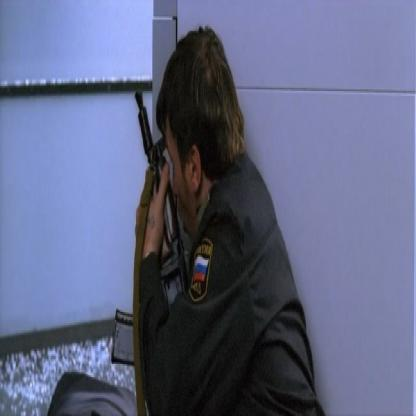Guns: (109, 83, 192, 414)
